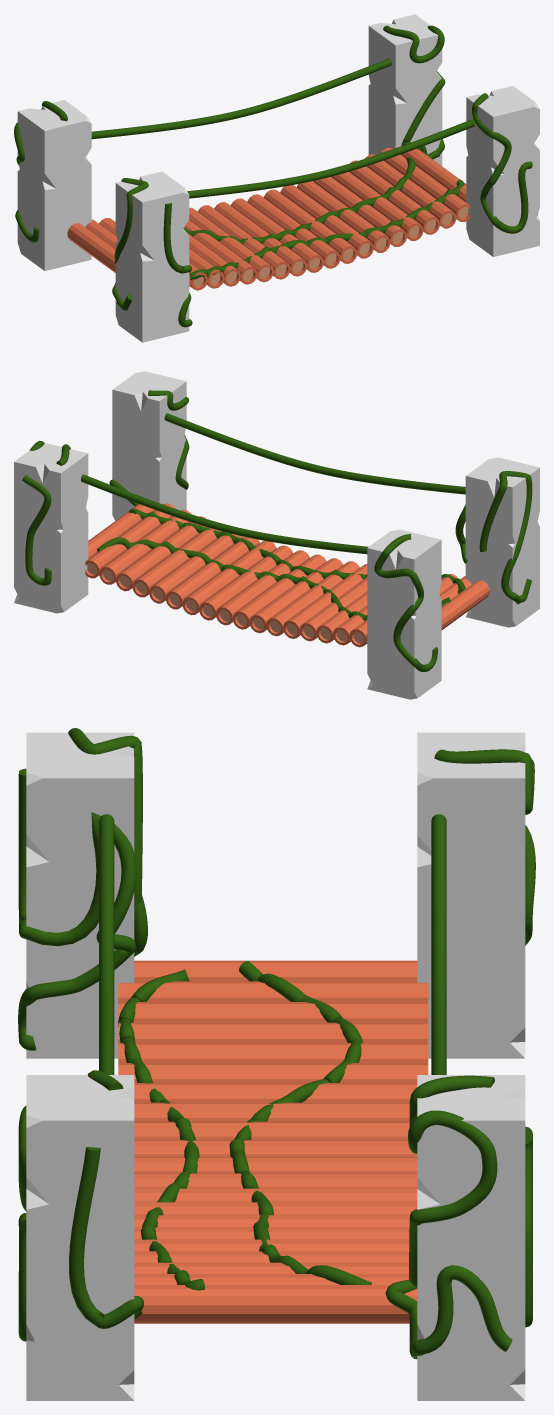
The model's file is Bridge.fbx.
3 renders of one model, top to bottom at view 1: azimuth 30°, elevation 25°; view 2: azimuth 150°, elevation 25°; view 3: azimuth 270°, elevation 25°, orthographic. The views are drawn at different scales.
Visible parts, largest first — view 1: Log.003, Cube.002, Cube.005, Cube.012, Bridge, Cube.013, NurbsPath.001, NurbsPath; view 2: Log.003, Cube.013, Cube.002, Cube.005, Bridge, Cube.012, NurbsPath, NurbsPath.001; view 3: Log.003, Bridge, Cube.012, Cube.002, Cube.013, Cube.005, NurbsPath.001, NurbsPath.
Boxes of the visible parts, left/top/right/bottom form: Log.003: left=67, top=147, right=470, bottom=290; Cube.002: left=17, top=100, right=91, bottom=270; Cube.005: left=115, top=171, right=189, bottom=342; Cube.012: left=466, top=86, right=539, bottom=256; Bridge: left=14, top=25, right=532, bottom=327; Cube.013: left=368, top=14, right=442, bottom=165; NurbsPath.001: left=91, top=58, right=391, bottom=139; NurbsPath: left=187, top=119, right=474, bottom=198; Log.003: left=85, top=503, right=489, bottom=647; Cube.013: left=14, top=443, right=88, bottom=613; Cube.002: left=367, top=529, right=441, bottom=699; Cube.005: left=465, top=457, right=539, bottom=627; Bridge: left=22, top=390, right=532, bottom=672; Cube.012: left=112, top=371, right=186, bottom=520; NurbsPath: left=164, top=413, right=465, bottom=494; NurbsPath.001: left=81, top=474, right=368, bottom=554; Log.003: left=118, top=960, right=428, bottom=1323; Bridge: left=18, top=728, right=535, bottom=1359; Cube.012: left=26, top=1075, right=134, bottom=1400; Cube.002: left=417, top=732, right=525, bottom=1058; Cube.013: left=417, top=1075, right=525, bottom=1400; Cube.005: left=26, top=732, right=134, bottom=1058; NurbsPath.001: left=431, top=814, right=446, bottom=1074; NurbsPath: left=99, top=814, right=114, bottom=1074.
Size of the model in its own units: 1234 by 424 by 680.
